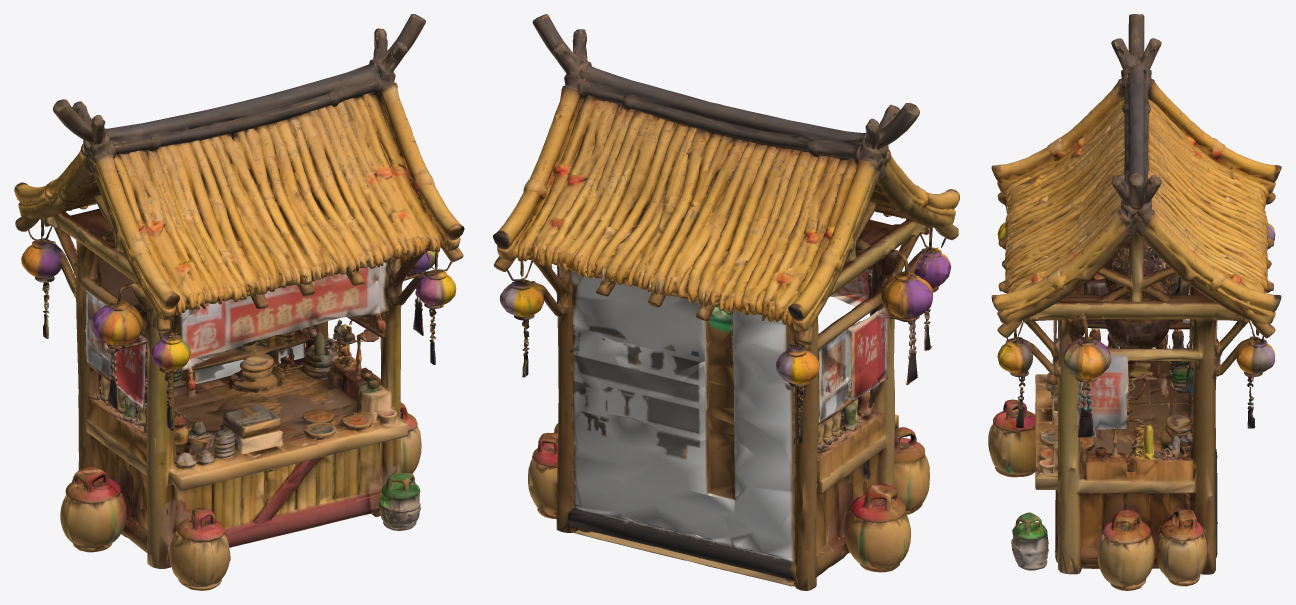
File: bq_lantern_shop.hd.glb
3 views of the same model, side by side, from view 1: azimuth 30°, elevation 25°; view 2: azimuth 150°, elevation 25°; view 3: azimuth 270°, elevation 25° (orthographic). The views are drawn at different scales.
Size of the model in its own units: 1.63 by 1.9 by 1.19.
Materials: 1 (1 with a texture image).
